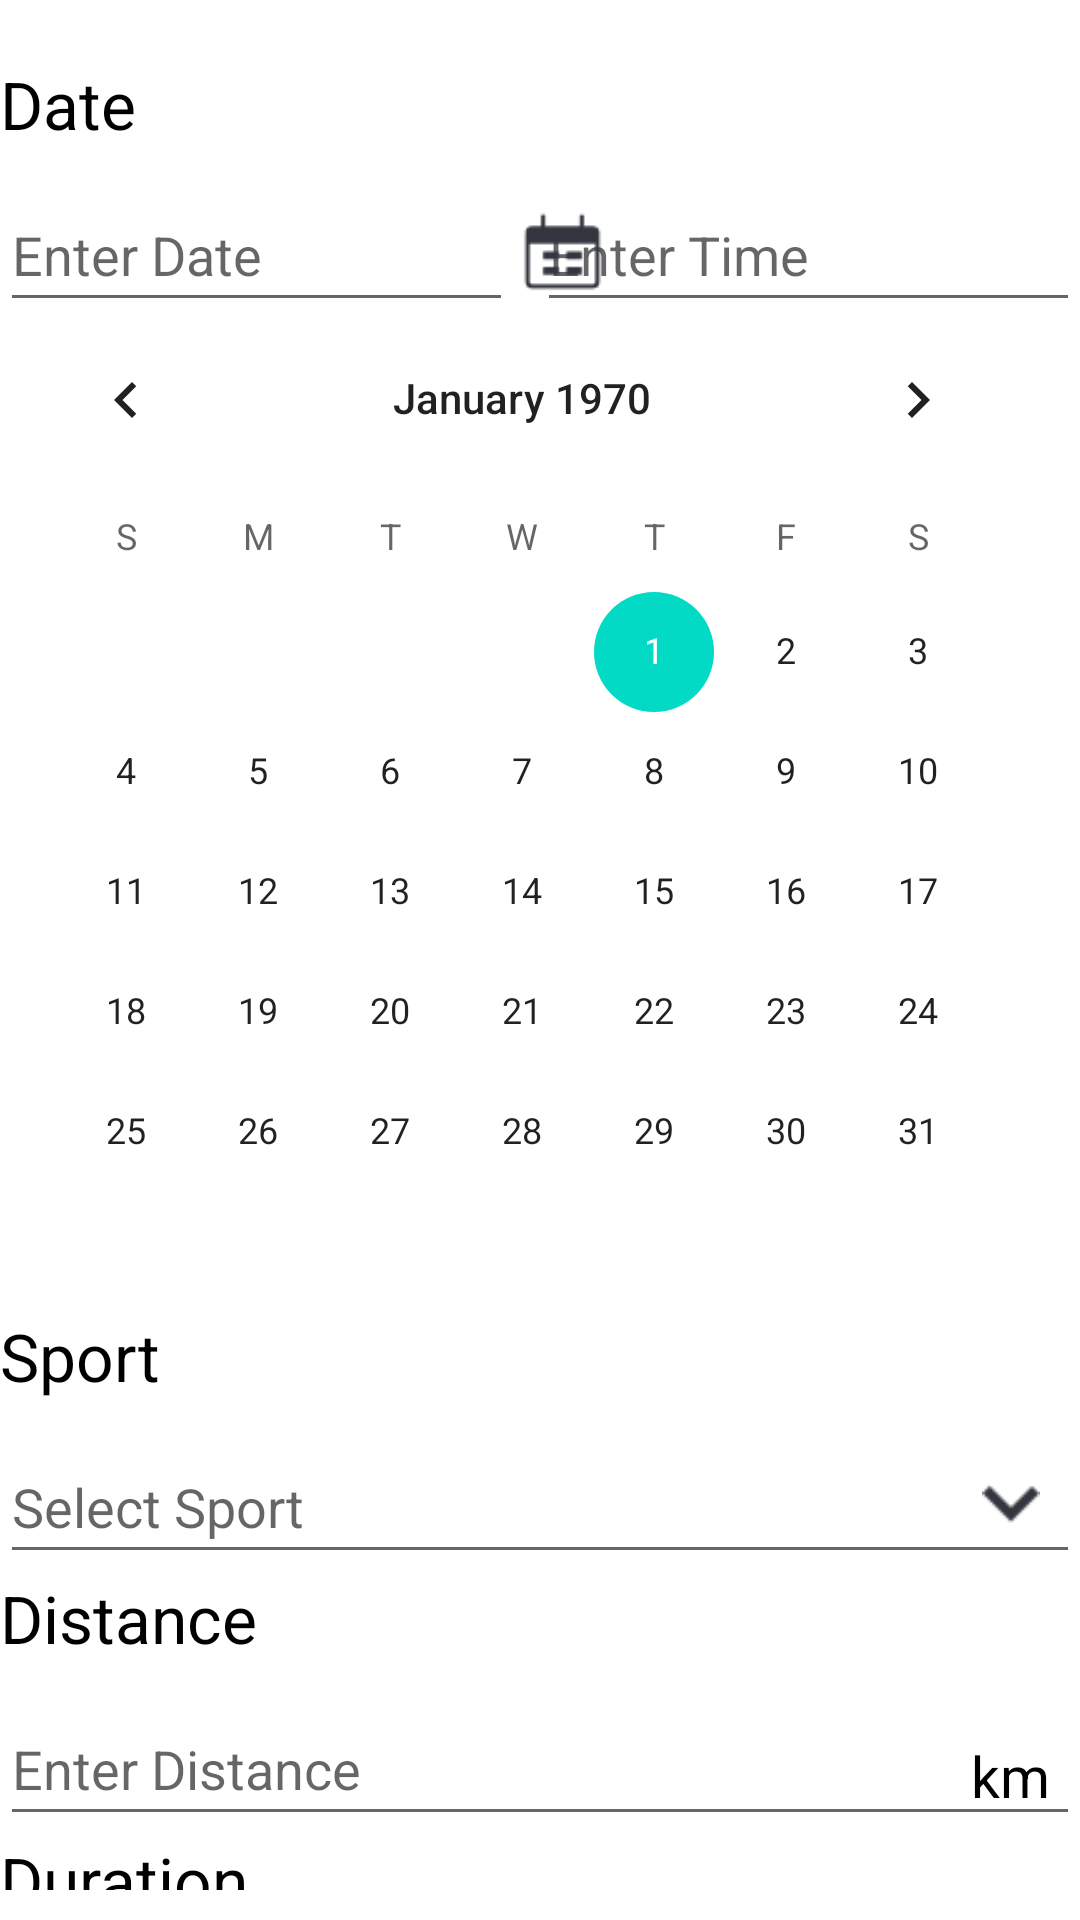

Locate icon controls on the screen. Image size 1080×1920, boxes as [x1, y1, x2, y2].
calendar: [524, 213, 606, 290]
down arrow: [982, 1486, 1040, 1523]
